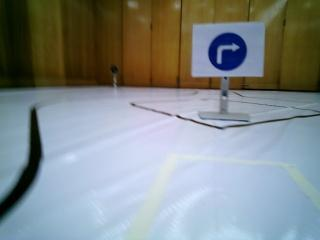right: (196, 27, 264, 82)
